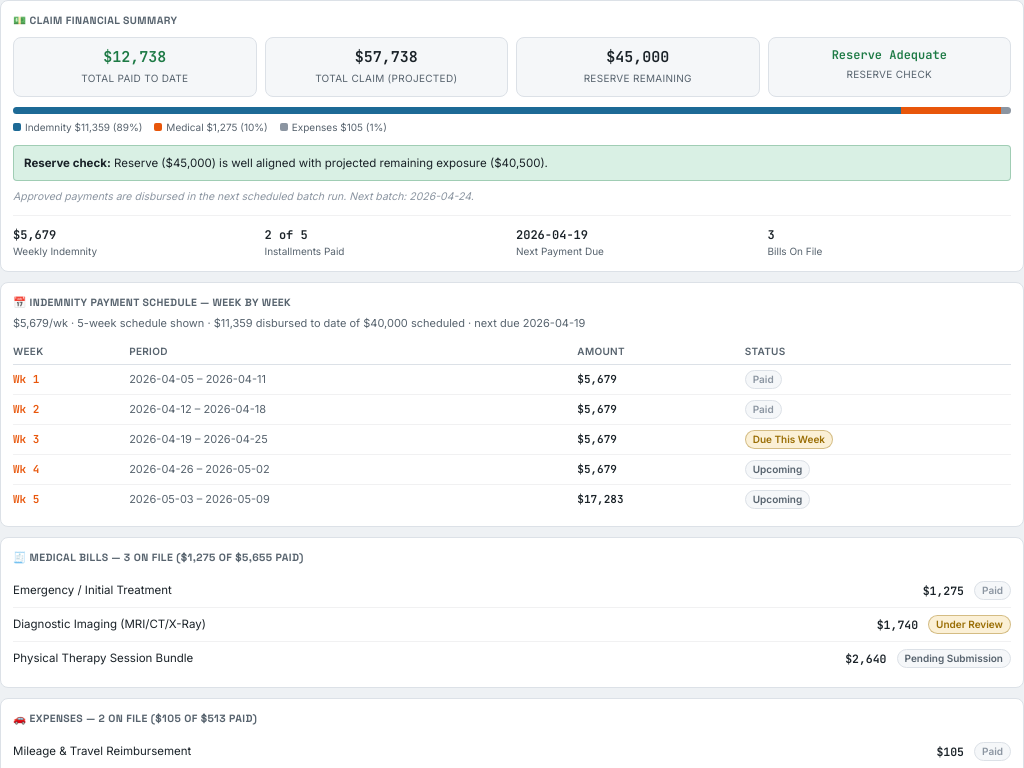
the approve button is offered exactly where the server says it may be
Click the button with test id "schedule-week-button" showing "Wk 1" at (26, 380), box [13, 371, 39, 388]
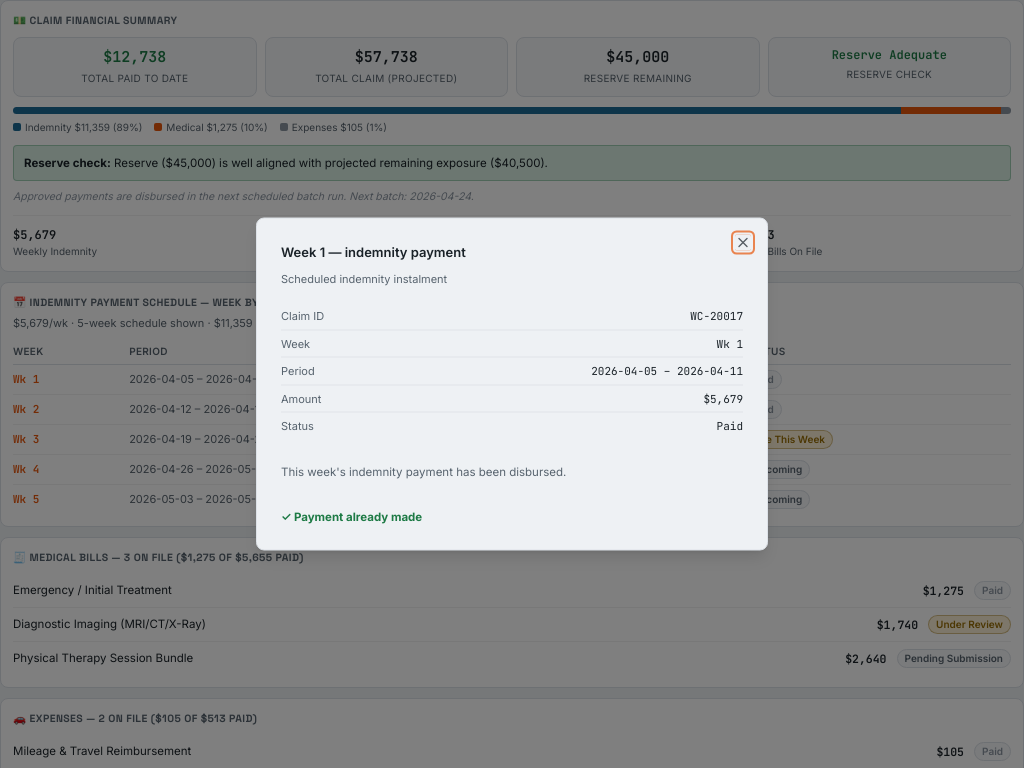
Now the text with test id "approve-paid" shows "Payment already made", box [281, 509, 422, 523]
Press Escape
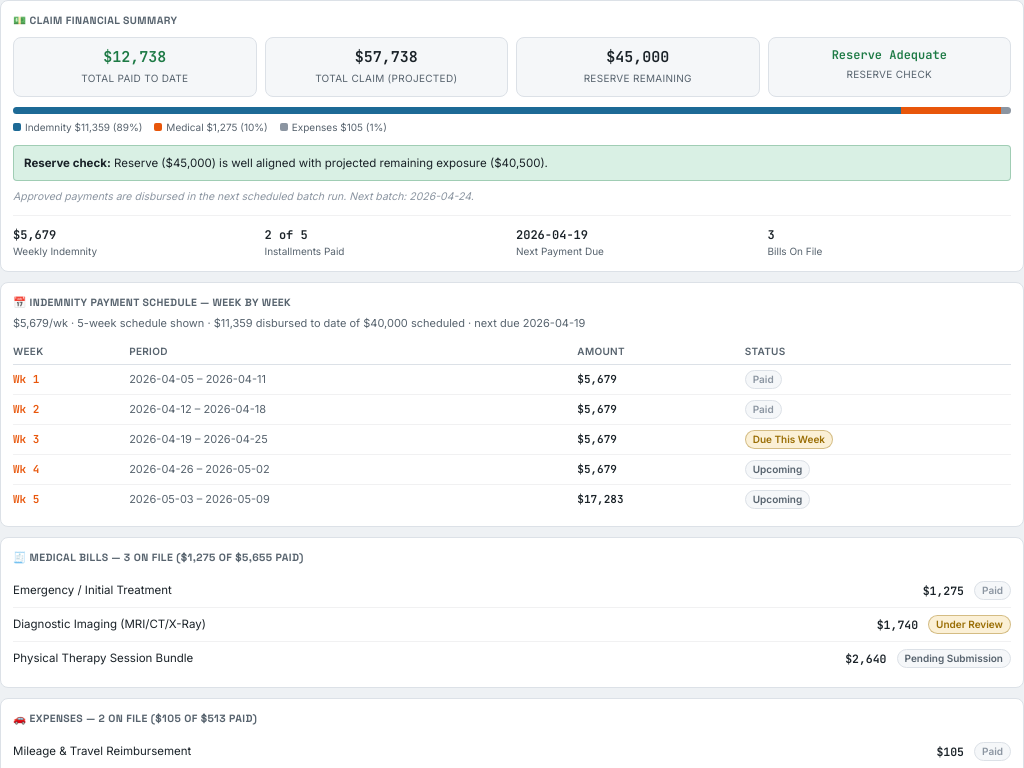
Click the button with test id "schedule-week-button" showing "Wk 3" at (26, 440), box [13, 431, 39, 448]
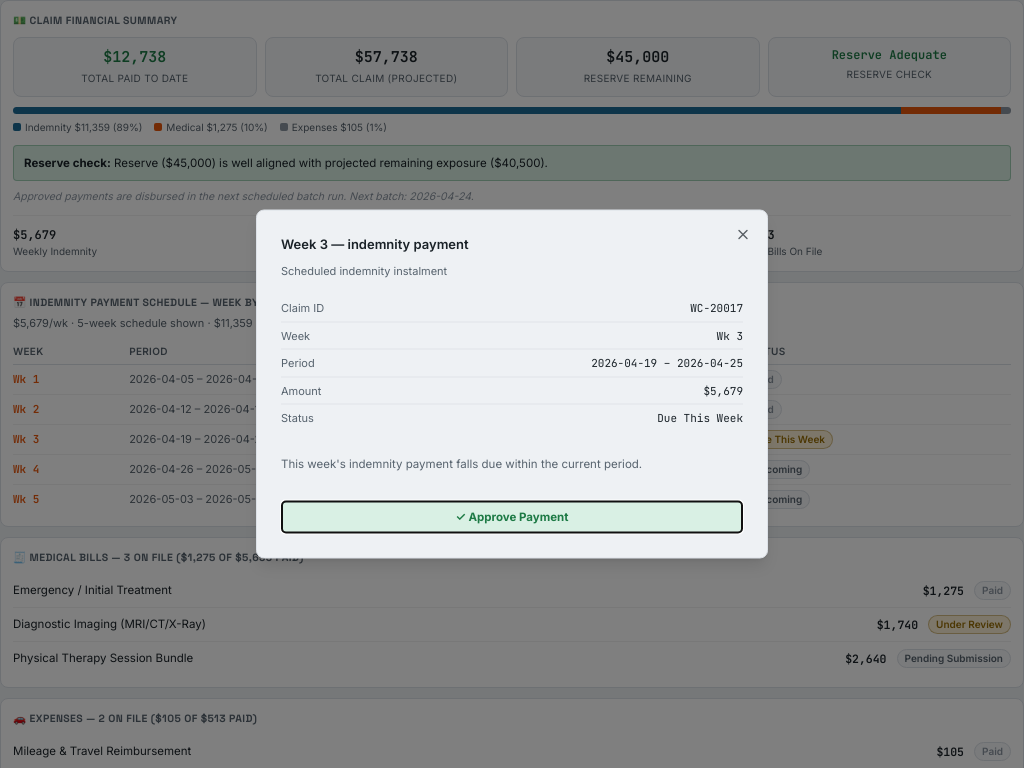
Now the button with test id "approve-payment" is shown, box [281, 500, 743, 534]
